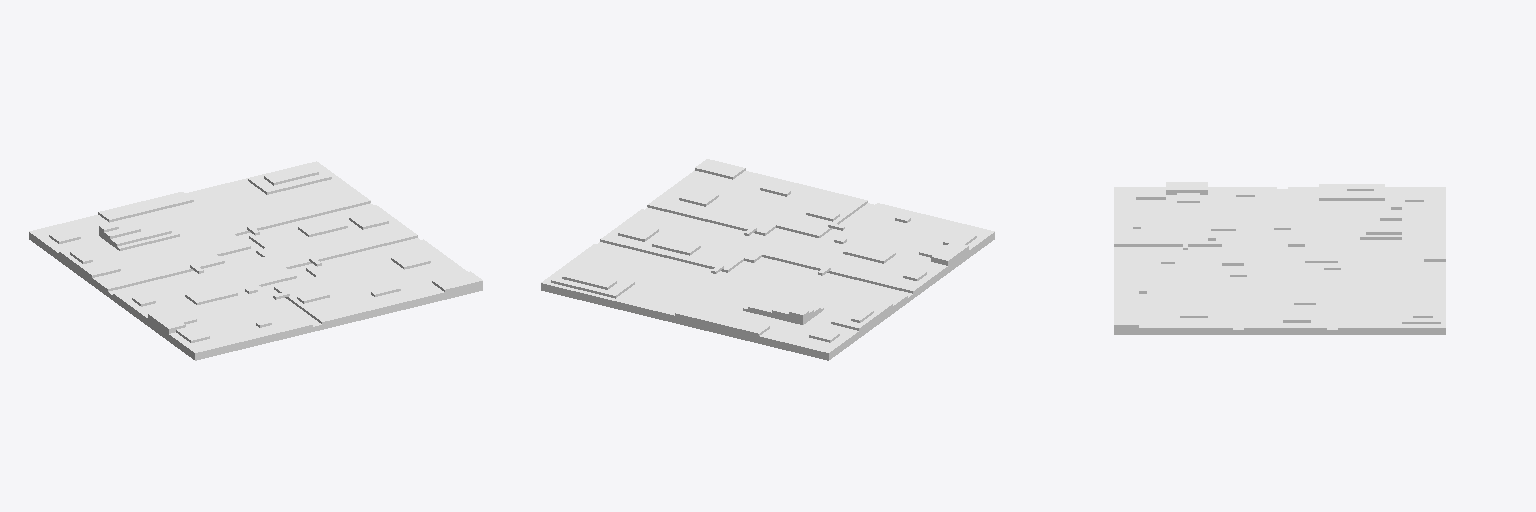
The model's file is map1.obj.
The picture shows the model from 3 angles: view 1: azimuth 30°, elevation 25°; view 2: azimuth 150°, elevation 25°; view 3: azimuth 270°, elevation 25°; orthographic projection.
Size of the model in its own units: 120 by 7 by 120.